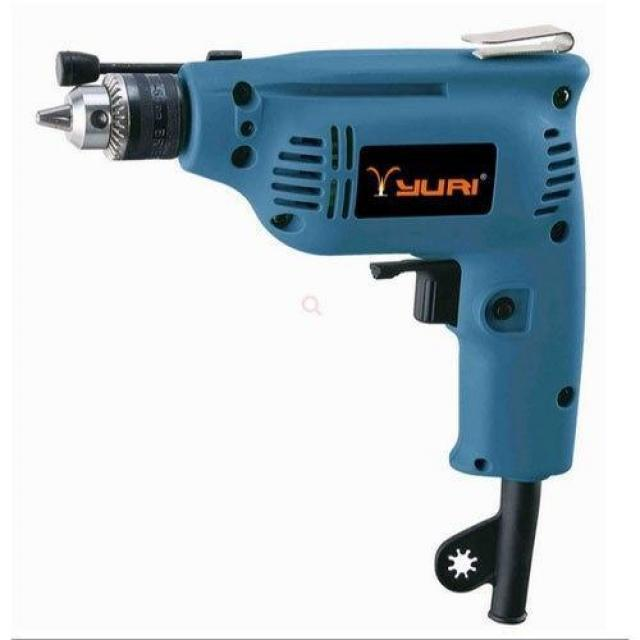drill: (29, 47, 592, 626)
